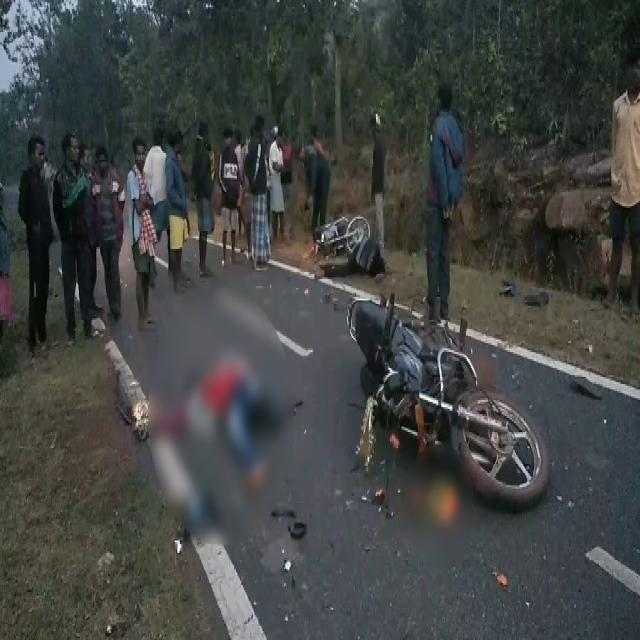accident: (349, 300, 550, 509), (315, 216, 382, 277)
